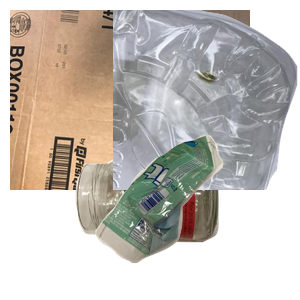cardboard: (10, 10, 250, 190)
glass: (73, 153, 284, 300)
plastic: (113, 10, 300, 190)
trash: (92, 133, 300, 300)
